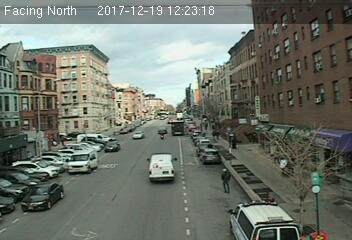car: (19, 182, 63, 209), (198, 149, 221, 163), (103, 141, 122, 153), (131, 129, 144, 139)
pedestrian: (220, 166, 234, 197)
police: (228, 199, 301, 240)
truck: (145, 155, 177, 184), (66, 151, 99, 171)
ups: (171, 120, 184, 136)
